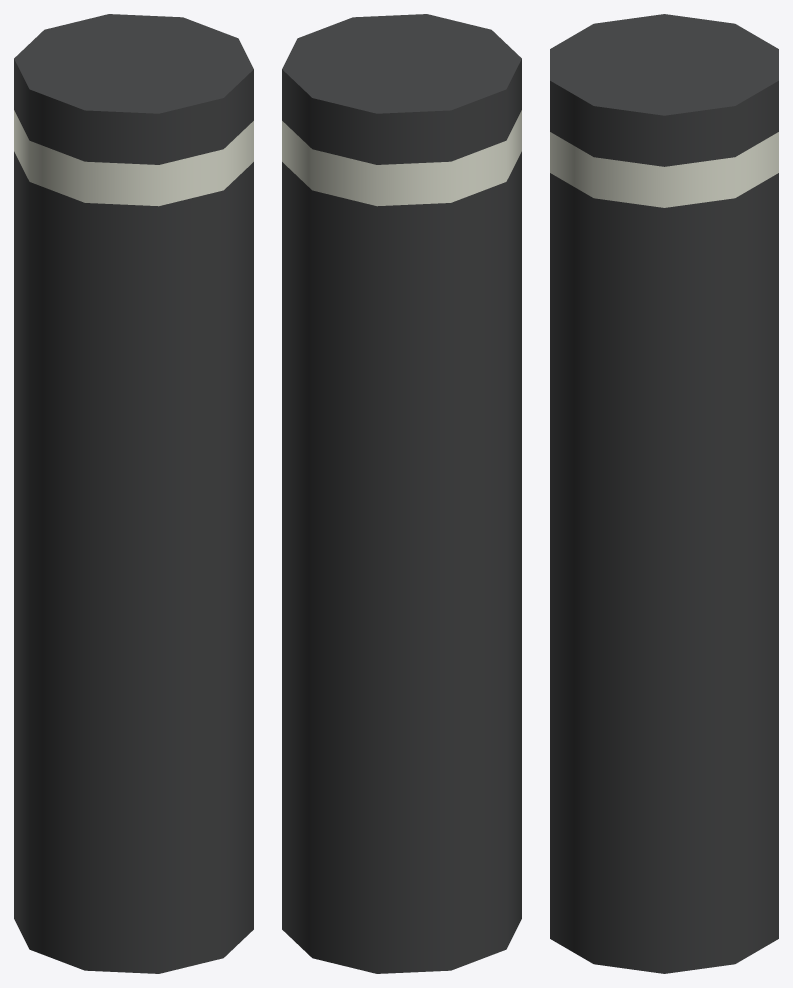
Rendered from SM_fence_pole.fbx.
3 renders of one model, left to right at view 1: azimuth 30°, elevation 25°; view 2: azimuth 150°, elevation 25°; view 3: azimuth 270°, elevation 25°, orthographic.
Parts seen in each view (by area): view 1: Cylinder026; view 2: Cylinder026; view 3: Cylinder026.
Part boxes in pixels (bbox=[...]): Cylinder026: bbox=[14, 14, 253, 973]; Cylinder026: bbox=[282, 14, 521, 973]; Cylinder026: bbox=[550, 14, 778, 973].
Size of the model in its own units: 10.19 by 9.69 by 40.08.
